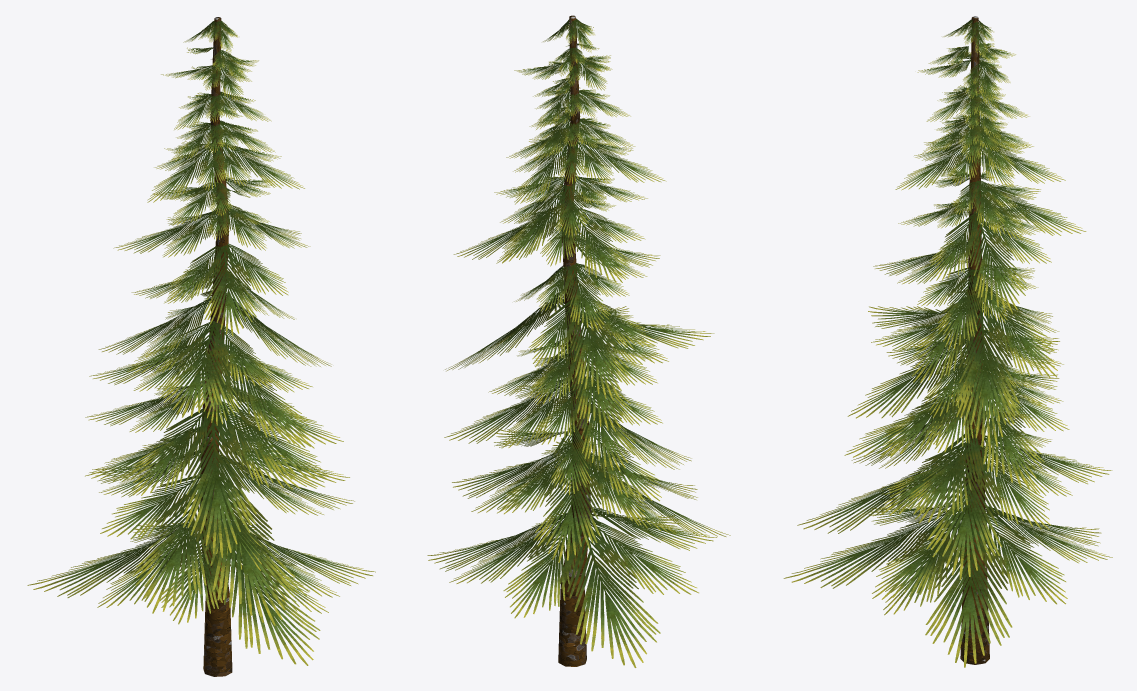
File: sm_fern_tree.fbx
3 views of the same model, side by side, from view 1: azimuth 30°, elevation 25°; view 2: azimuth 150°, elevation 25°; view 3: azimuth 270°, elevation 25° (orthographic).
Parts seen in each view (by area): view 1: sm_fern_tree; view 2: sm_fern_tree; view 3: sm_fern_tree.
Part boxes in pixels (box(x1,y1,x2,y2)): sm_fern_tree: box(27, 17, 375, 676); sm_fern_tree: box(427, 15, 730, 667); sm_fern_tree: box(783, 16, 1112, 667).
Bounding box in the file's own units: 662 × 1385 × 685.
